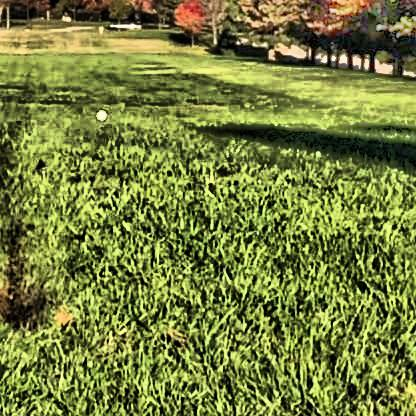golfball: (92, 105, 106, 119)
